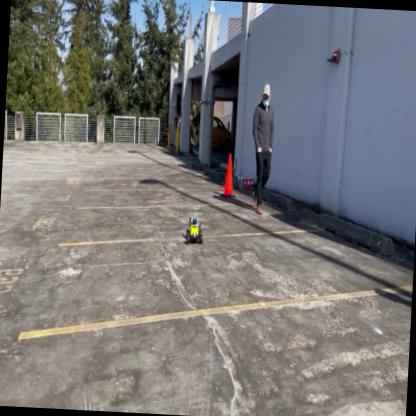cone: (220, 152, 236, 198)
mushr_car: (184, 214, 205, 247)
